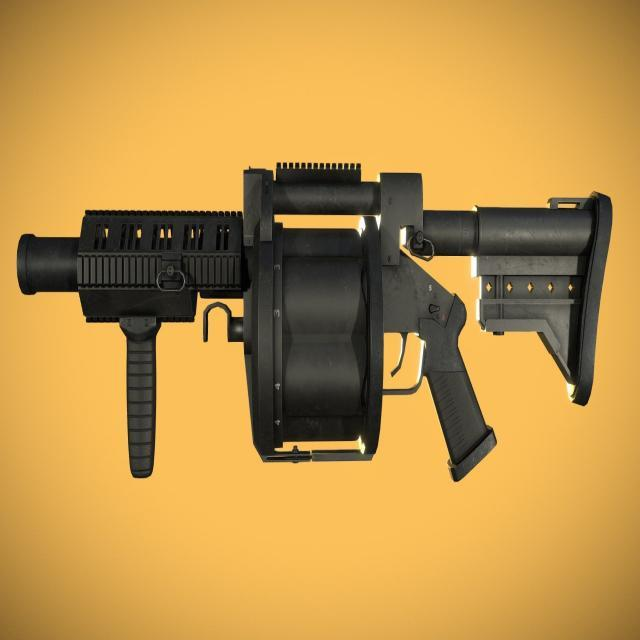rifle: (16, 152, 614, 495)
